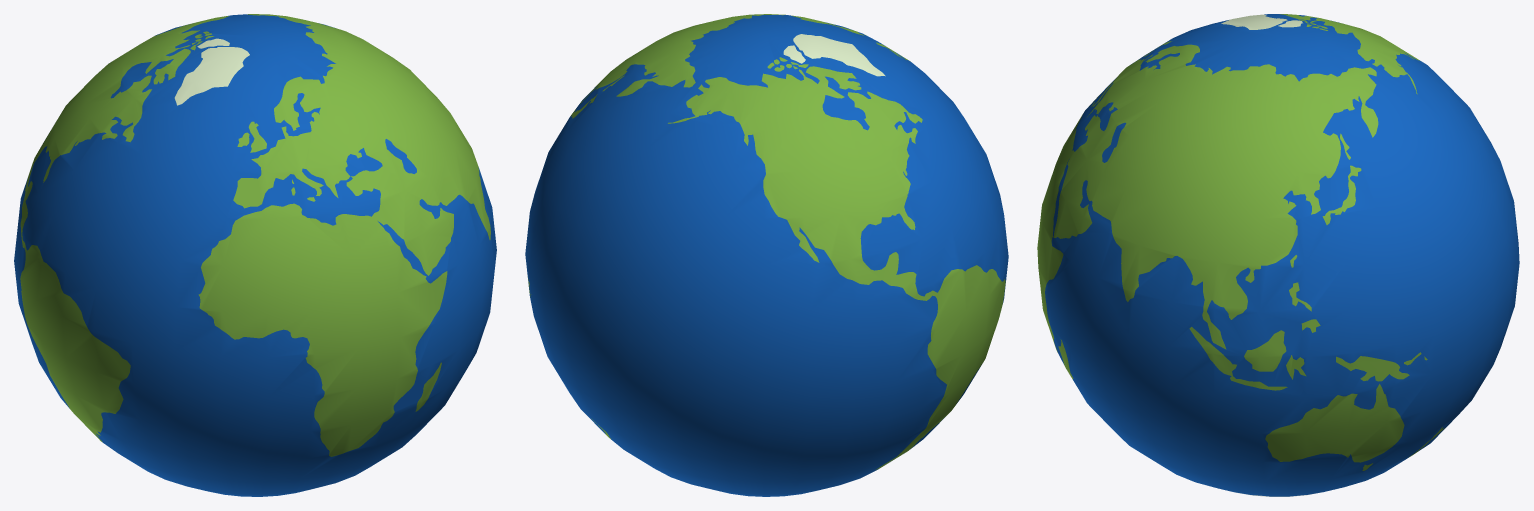
File: globe_showing_europe_africa.glb
The picture shows the model from 3 angles, left to right: view 1: azimuth 30°, elevation 25°; view 2: azimuth 150°, elevation 25°; view 3: azimuth 270°, elevation 25°; orthographic projection.
Parts seen in each view (by area): view 1: Sphere.392; view 2: Sphere.392; view 3: Sphere.392.
Part boxes in pixels (x1=…): Sphere.392: x1=14, y1=14, x2=496, y2=496; Sphere.392: x1=525, y1=14, x2=1008, y2=496; Sphere.392: x1=1037, y1=14, x2=1519, y2=496.
Size of the model in its own units: 1.99 by 2 by 1.99.
Materials: 1 (1 with a texture image).
